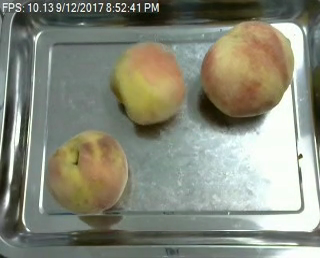Peach: (202, 20, 295, 117), (46, 130, 128, 214), (110, 40, 185, 125)
